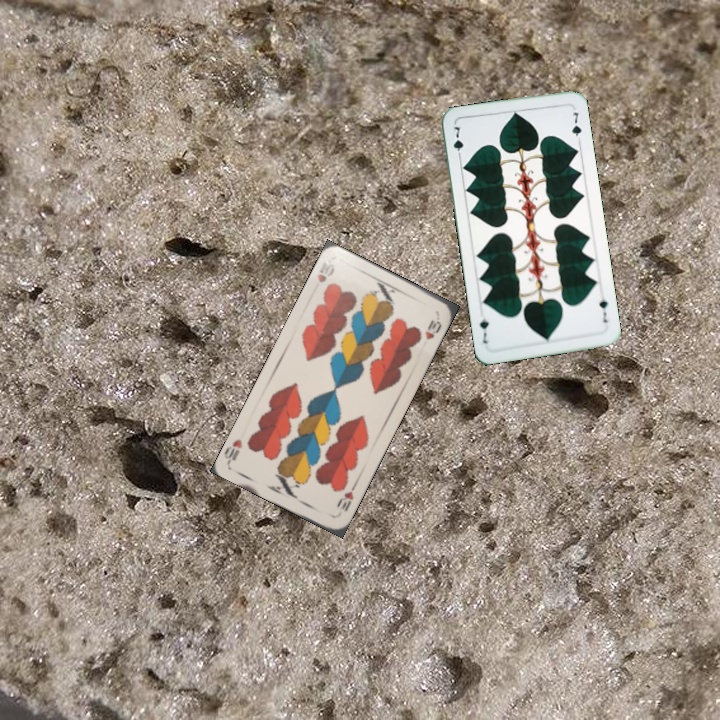G7: (449, 122, 466, 162), (595, 295, 610, 325)
H10: (332, 481, 358, 514), (313, 258, 337, 285)
